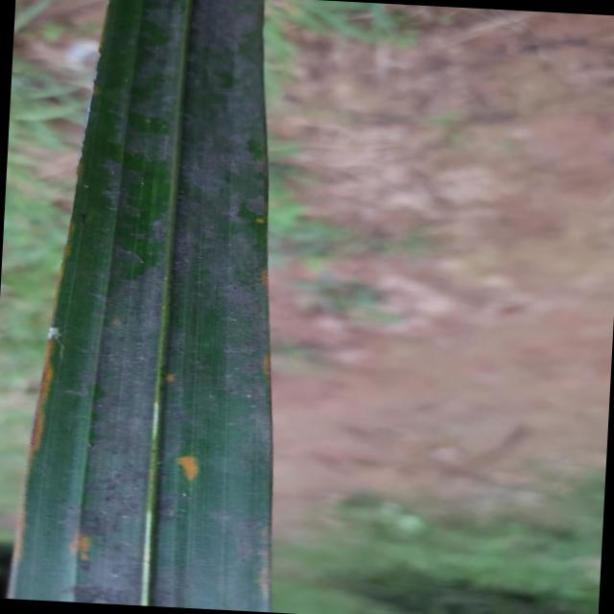Kalium: (9, 0, 266, 614)
